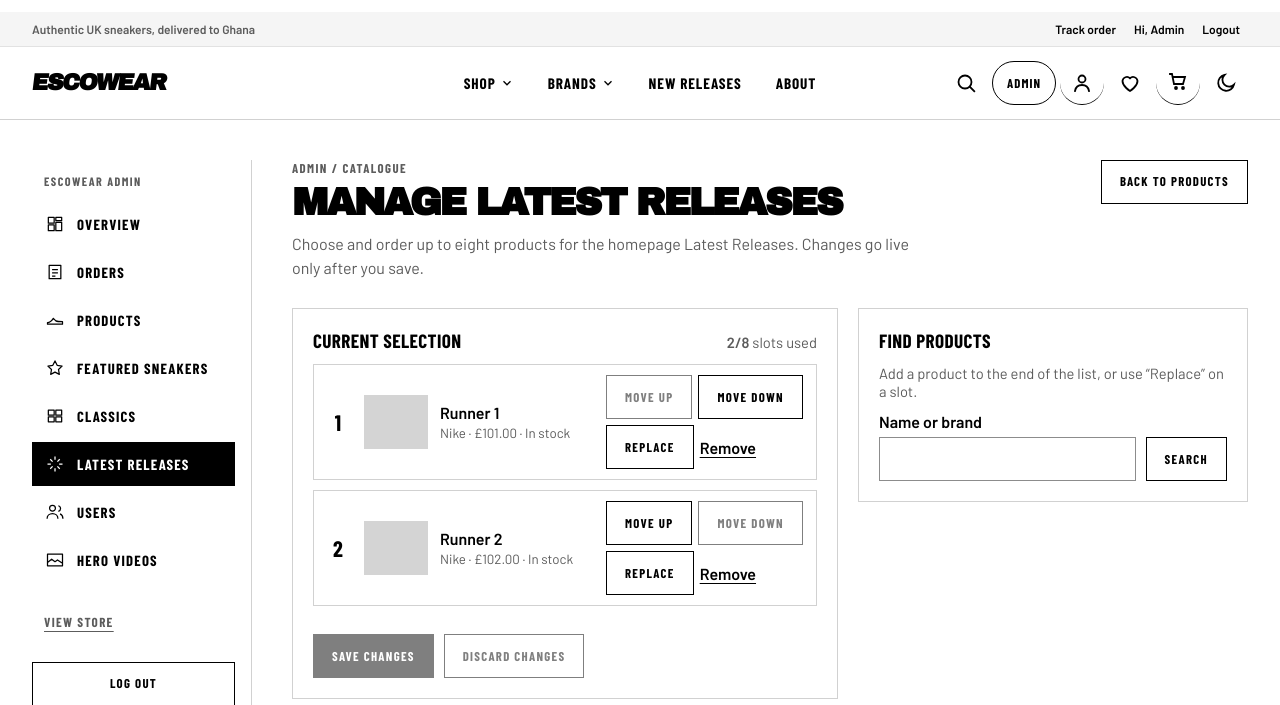
Test case: a 422 flags unavailable products and keeps the edits
Click the button with aria-label "Move Runner 2 up" at (649, 524), box [606,502,692,546]
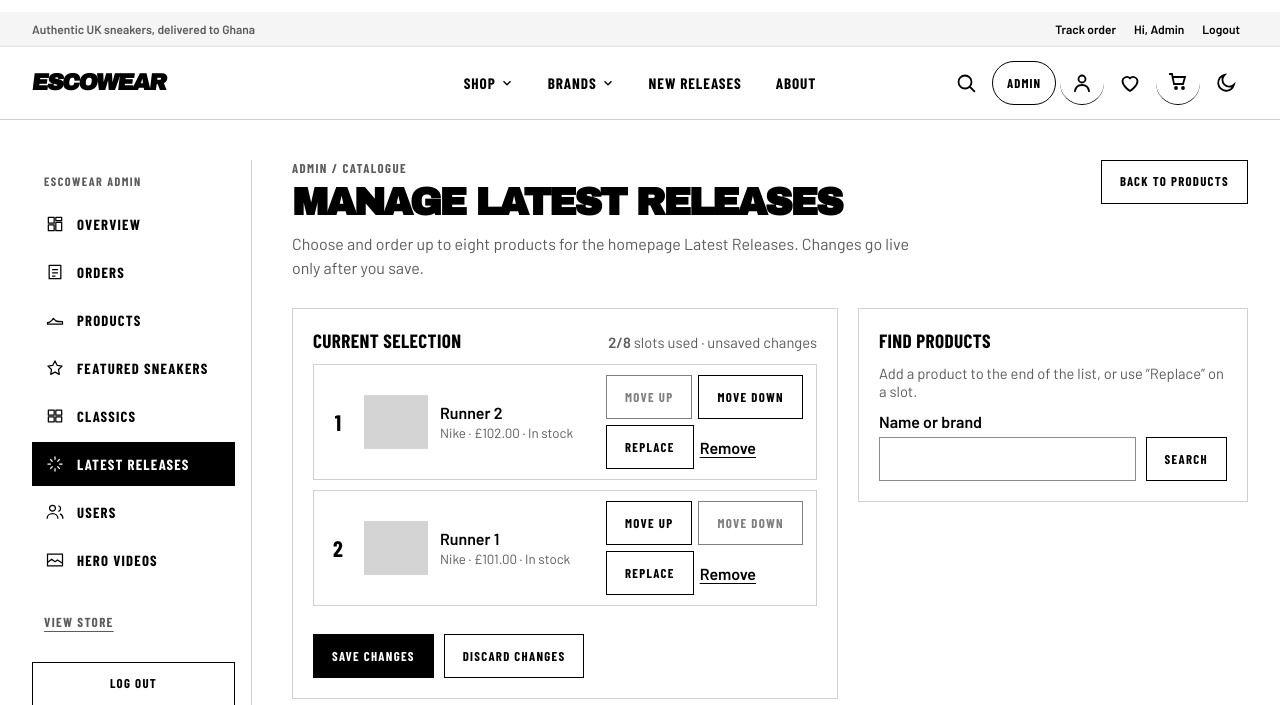
Click the button "Save changes" at (373, 656), box [313,634,434,678]
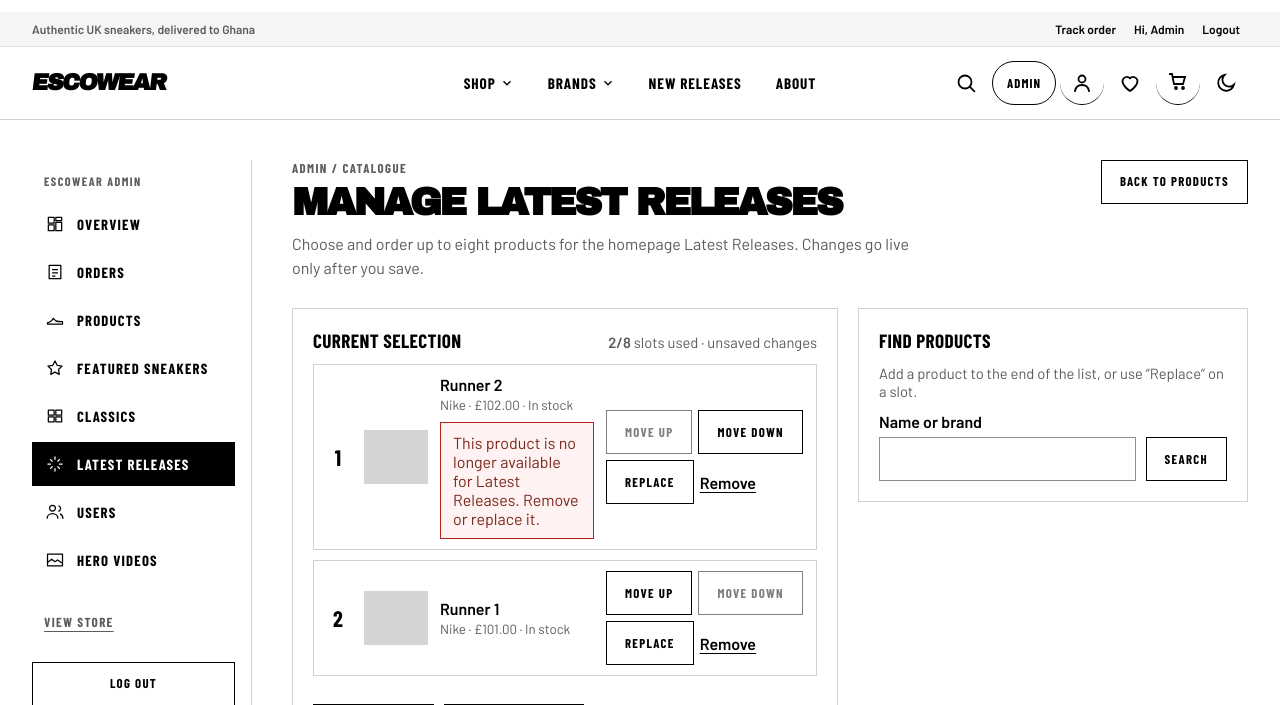
Result: the text "no longer available for Latest Releases" is shown at [453,434,579,528]
